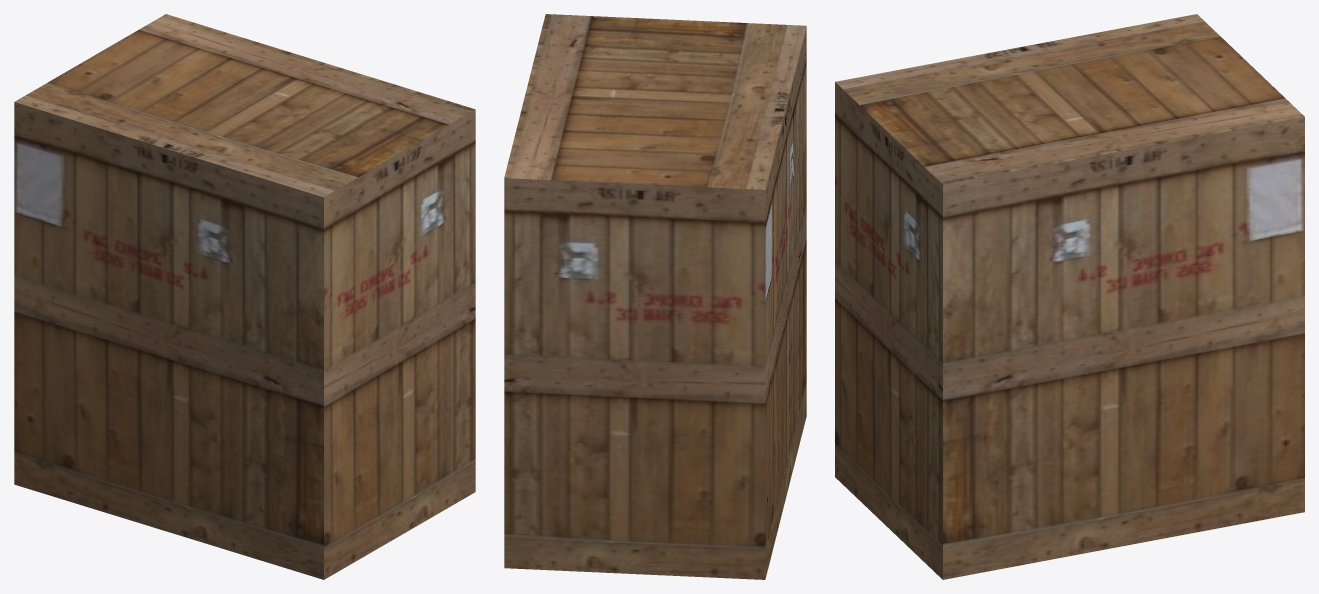
The picture shows the model from 3 angles, left to right: view 1: azimuth 30°, elevation 25°; view 2: azimuth 150°, elevation 25°; view 3: azimuth 270°, elevation 25°; orthographic projection. The views are drawn at different scales.
Visible parts, largest first — view 1: C012_Boxs_07_0; view 2: C012_Boxs_07_0; view 3: C012_Boxs_07_0.
Part boxes in pixels (box(x1,y1,x2,y2)): C012_Boxs_07_0: box(14, 14, 475, 579); C012_Boxs_07_0: box(504, 14, 806, 579); C012_Boxs_07_0: box(835, 14, 1304, 579).
Bounding box in the file's own units: 3.11 × 3.36 × 3.62.
Materials: 1 (1 with a texture image).
